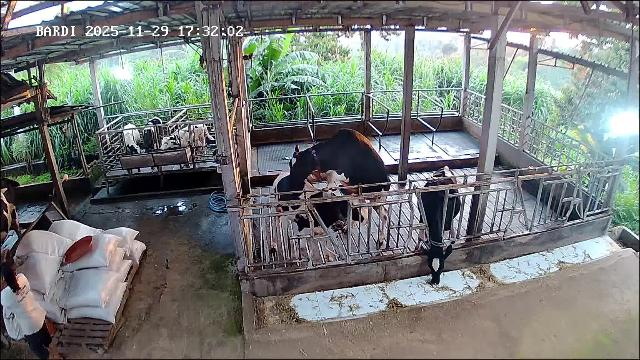mounting: (287, 131, 393, 236)
